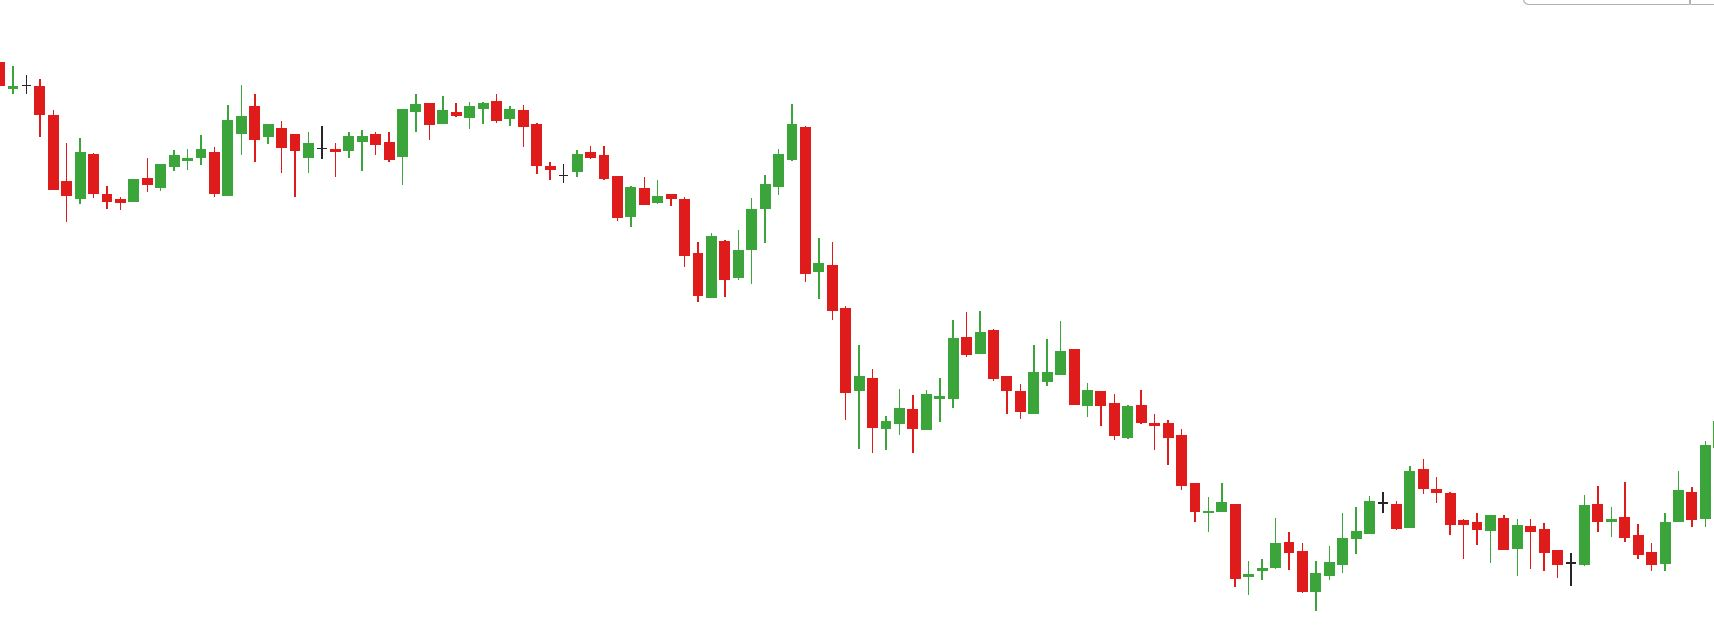buy: (1243, 546, 1323, 615)
sell: (570, 104, 812, 217), (853, 313, 975, 408)
